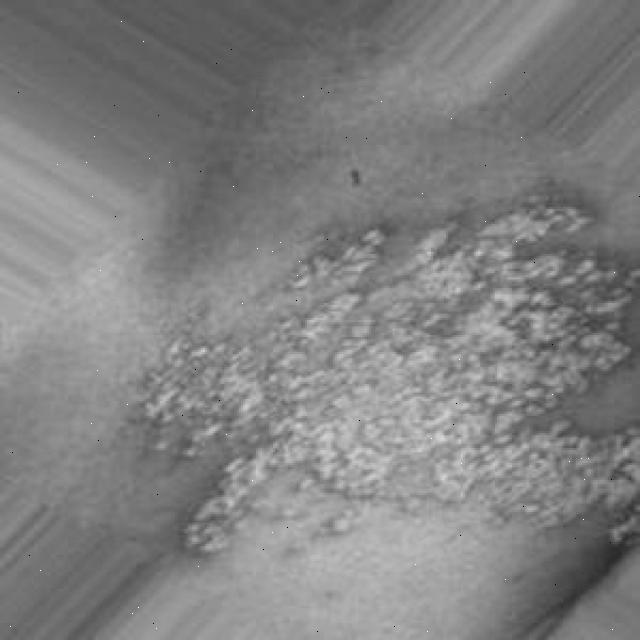Shingles: (135, 186, 640, 563)
